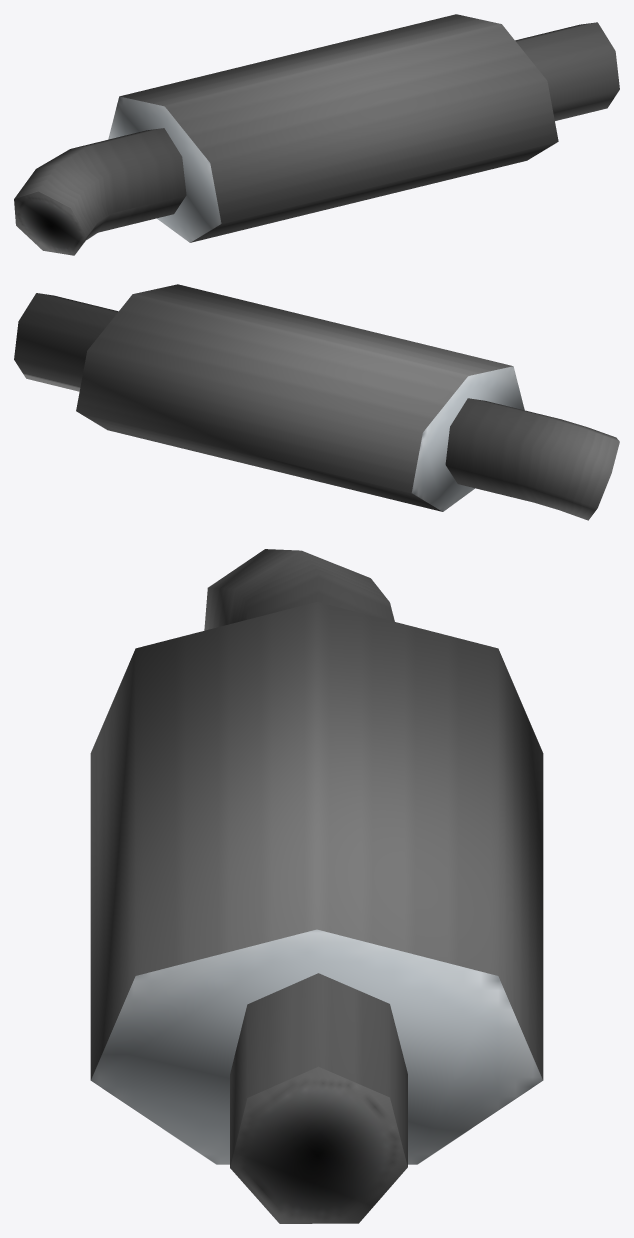
Rendered from Muffler.FBX.
The picture shows the model from 3 angles, top to bottom: view 1: azimuth 30°, elevation 25°; view 2: azimuth 150°, elevation 25°; view 3: azimuth 270°, elevation 25°; orthographic projection. The views are drawn at different scales.
Parts seen in each view (by area): view 1: Muffler; view 2: Muffler; view 3: Muffler.
Boxes of the visible parts, box(x1,y1,x2,y2) form: Muffler: box(14, 14, 619, 255); Muffler: box(14, 284, 619, 520); Muffler: box(90, 549, 543, 1223).
Bounding box in the file's own units: 0.3663 × 0.0712 × 0.1241.
